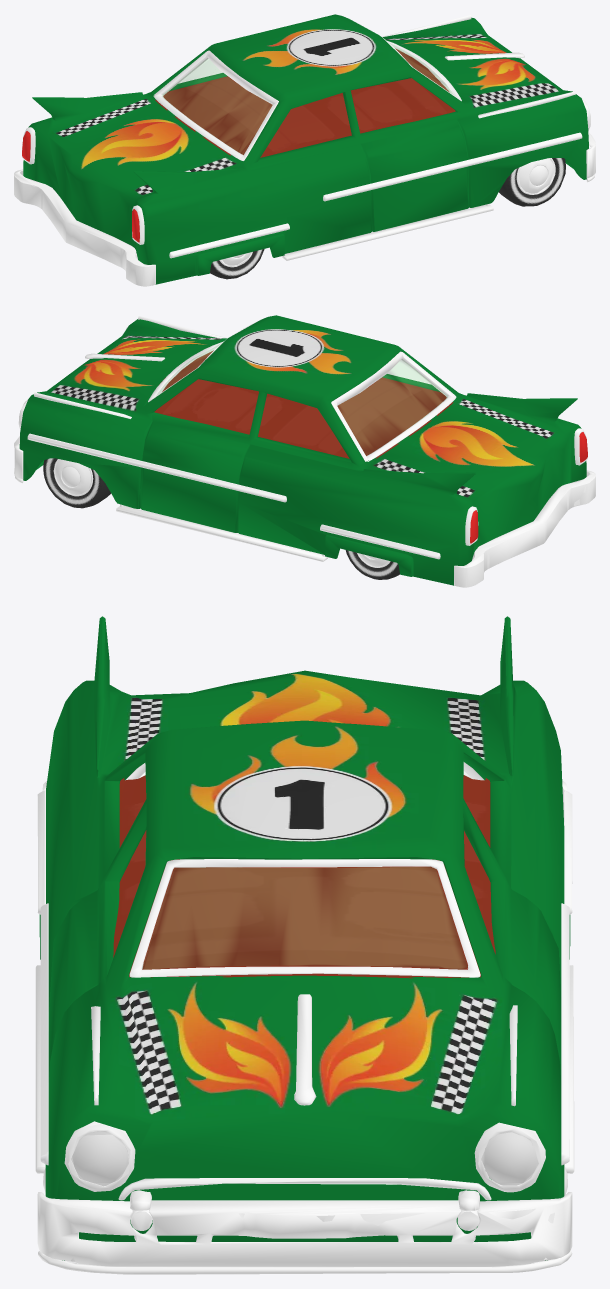
The model's file is racecar_lod.glb.
3 views of the same model, one above another, from view 1: azimuth 30°, elevation 25°; view 2: azimuth 150°, elevation 25°; view 3: azimuth 270°, elevation 25° (orthographic). The views are drawn at different scales.
Visible parts, largest first — view 1: body, wheel_FR, wheel_RR; view 2: body, wheel_FL, wheel_RL; view 3: body.
Part boxes in pixels (x1,y1,x2,y2): body: [14, 14, 595, 286]; wheel_FR: [499, 158, 565, 206]; wheel_RR: [210, 249, 264, 279]; body: [14, 315, 595, 587]; wheel_FL: [43, 458, 110, 508]; wheel_RL: [345, 550, 399, 579]; body: [35, 616, 574, 1274].
Bounding box in the file's own units: 15.76 × 4.77 × 7.68.
2 materials, 1 textured.
